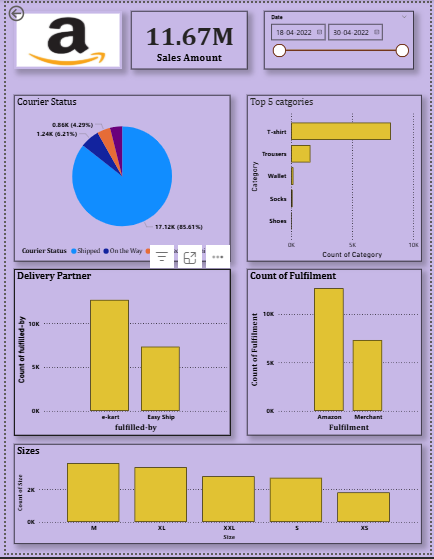

The page's visual inventory and layout, read from the dashboard file:
{"tool":"powerbi","page":{"name":"Page 1","canvas":[816,1056],"ordinal":0},"visuals":[{"type":"image","box":[16,16,208,112],"z":0},{"type":"card","fields":{"Values":["Sum(Sheet1.Amount)"]},"box":[240,16,224,112],"z":1000},{"type":"slicer","fields":{"Values":["Sheet1.Date"]},"box":[496,16,288,112],"z":2000},{"type":"barChart","title":"Top 5 catgories","fields":{"Category":["Sheet1.Category"],"Y":["CountNonNull(Sheet1.Category)"]},"box":[464,176,336,320],"z":3000},{"type":"pieChart","title":"Courier Status ","fields":{"Category":["Sheet1.Courier Status"],"Y":["CountNonNull(Sheet1.Courier Status)"]},"box":[16,176,416,320],"z":4000},{"type":"columnChart","title":"Delivery Partner","fields":{"Category":["Sheet1.fulfilled-by"],"Y":["CountNonNull(Sheet1.fulfilled-by)"]},"box":[16,512,416,320],"z":5000},{"type":"columnChart","title":"Count of Fulfilment","fields":{"Y":["CountNonNull(Sheet1.Fulfilment)"],"Category":["Sheet1.Fulfilment"]},"box":[464,512,336,320],"z":6000},{"type":"columnChart","title":"Sizes","fields":{"Y":["CountNonNull(Sheet1.Size)"],"Category":["Sheet1.Size"]},"box":[16,848,784,192],"z":7000},{"type":"actionButton","box":[0,0,100,40],"z":8000}]}

Visuals, with their boxes in screenshot pixels (x1, y1, x2, y2), scaled from the page's 816x1056 canvas onto the 434x559 screenshot:
image: 9 8 119 68
card - Sum(Sheet1.Amount): 128 8 247 68
slicer - Sheet1.Date: 264 8 417 68
"Top 5 catgories" barChart: 247 93 425 263
"Courier Status " pieChart: 9 93 230 263
"Delivery Partner" columnChart: 9 271 230 440
"Count of Fulfilment" columnChart: 247 271 425 440
"Sizes" columnChart: 9 449 425 551
actionButton: 0 0 53 21
